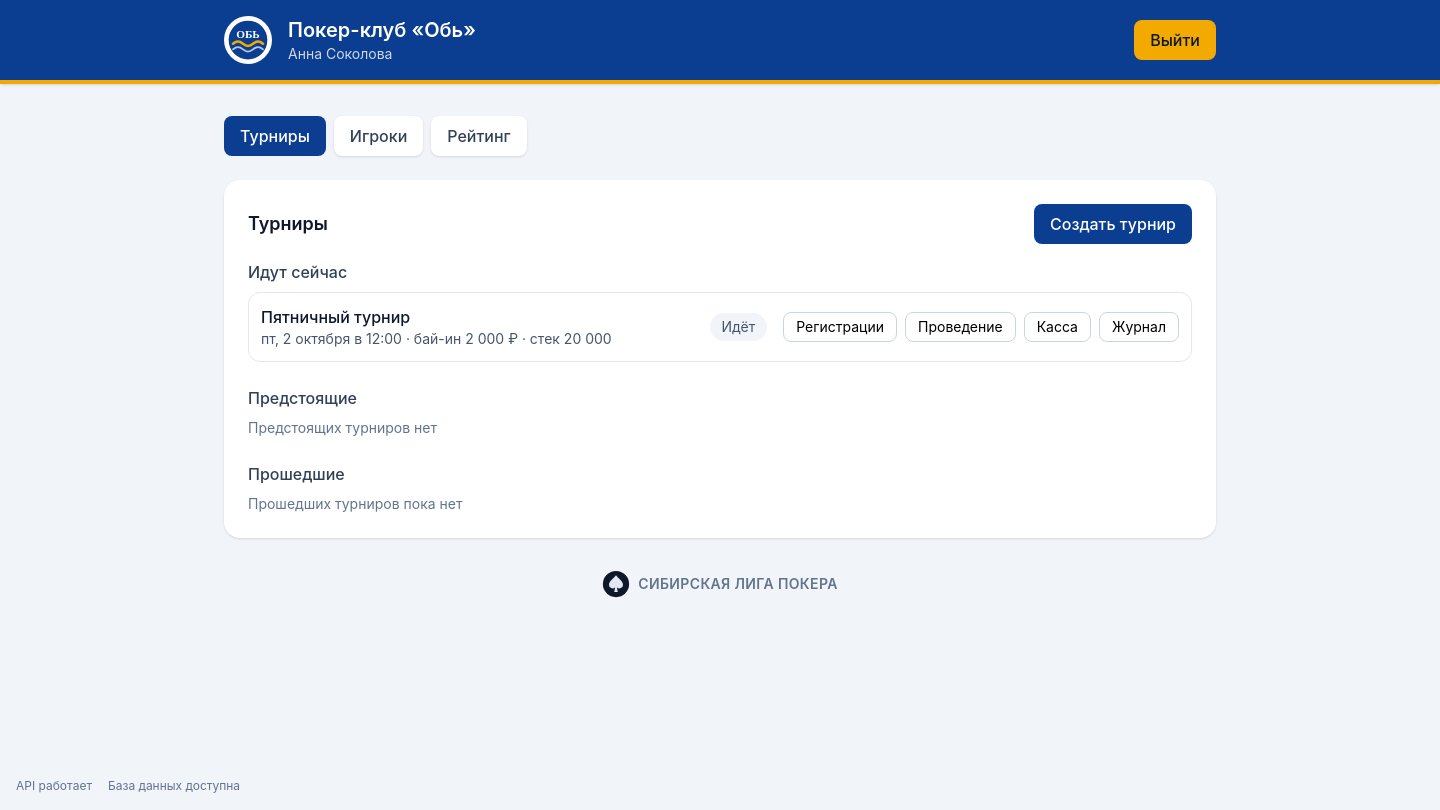
it: tournament action log › says so when nothing has been done to the tournament yet
The image size is (1440, 810).
Click the button "Журнал": (1139, 327) [1099,312,1179,342]
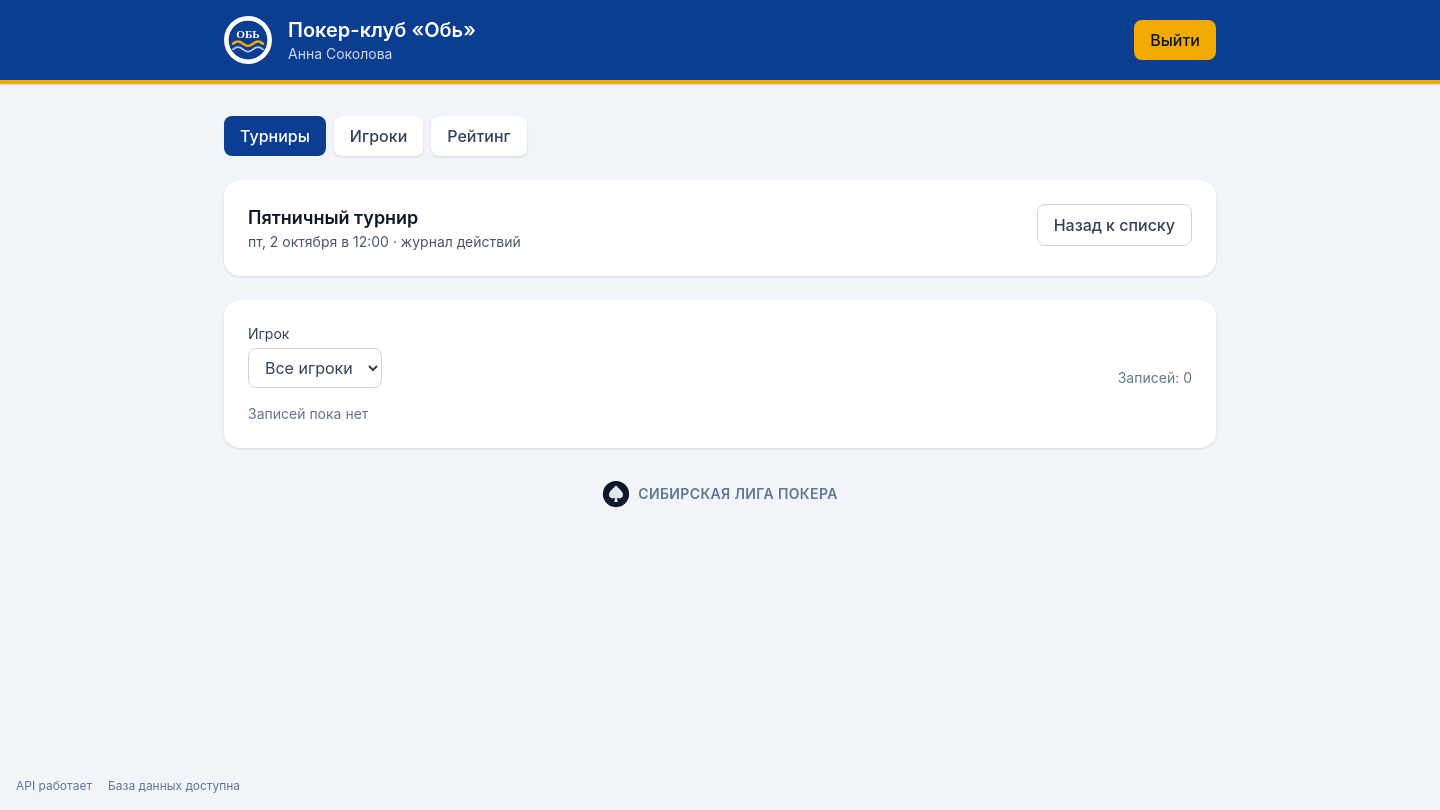
Check: the heading "Пятничный турнир" is shown, box [248,207,418,228]
Check: the text "Записей пока нет" is shown, box [248,405,368,422]
